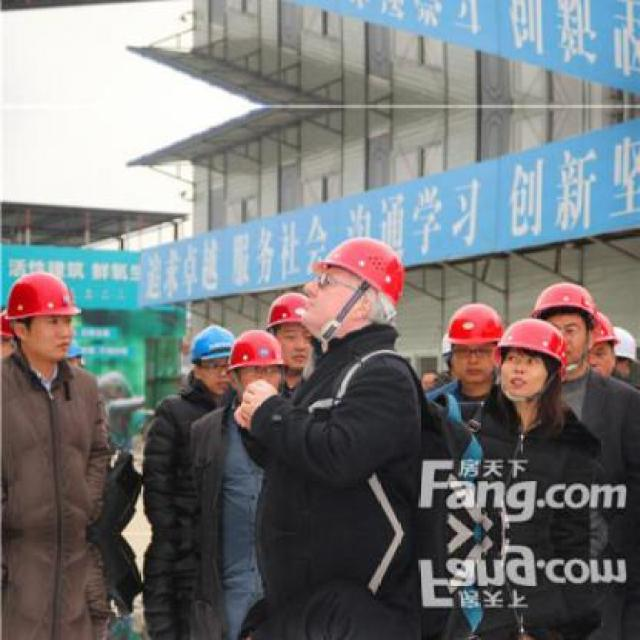helmet: (309, 232, 408, 328), (8, 267, 81, 364), (441, 299, 507, 390), (498, 315, 567, 402), (539, 281, 599, 356), (229, 327, 288, 402), (267, 291, 318, 368), (187, 328, 231, 392), (583, 314, 617, 372), (609, 319, 637, 380)
